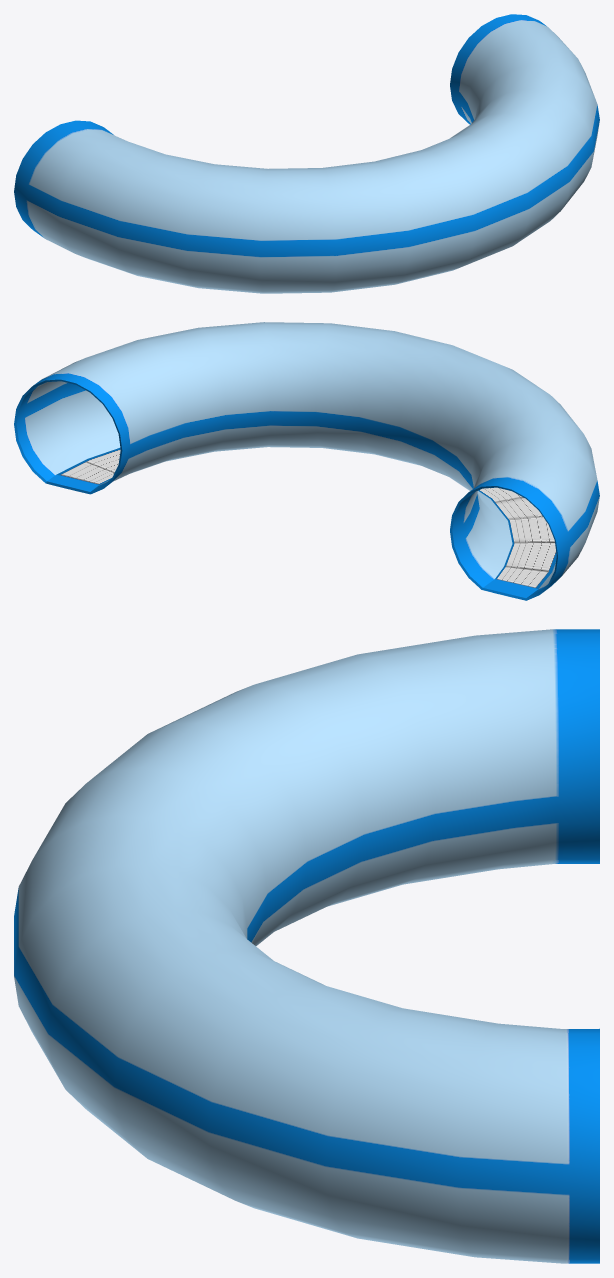
The model's file is FUT0110020.fbx.
The picture shows the model from 3 angles, top to bottom: view 1: azimuth 30°, elevation 25°; view 2: azimuth 150°, elevation 25°; view 3: azimuth 270°, elevation 25°; orthographic projection. The views are drawn at different scales.
Visible parts, largest first — view 1: smFUT0110020; view 2: smFUT0110020; view 3: smFUT0110020.
Part boxes in pixels (left/top/right/bottom): smFUT0110020: left=14, top=14, right=599, bottom=293; smFUT0110020: left=14, top=322, right=599, bottom=600; smFUT0110020: left=14, top=629, right=599, bottom=1263.
Size of what is drawn, in the model's own units: 1078 by 204 by 535.
1 material, 1 textured.
